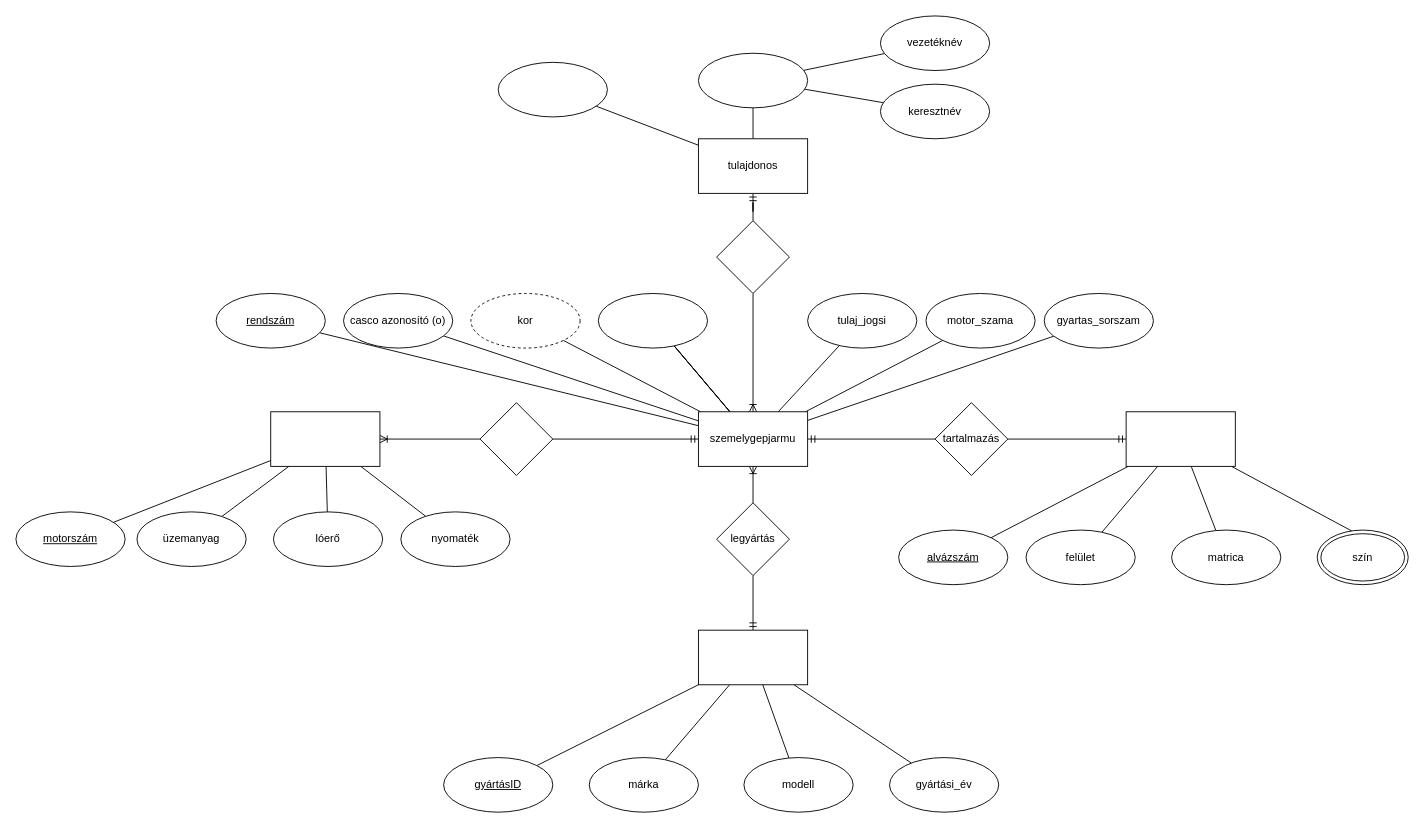
The diagram is 1424 pixels wide and 828 high, and some of its shapes have lost their labels. The shapes that lost their labels are listed below. From the top down, each one's box as (x1, y1, x2, y2) in pixels, then its label:
(497, 61, 607, 117): jogosítvány_száma
(698, 52, 808, 108): név
(716, 220, 789, 293): birtoklás
(597, 293, 708, 348): alvaz_szama
(270, 411, 380, 466): motor
(479, 402, 553, 475): hajtás
(1125, 411, 1235, 466): karosszeria
(698, 629, 808, 685): gyártás
